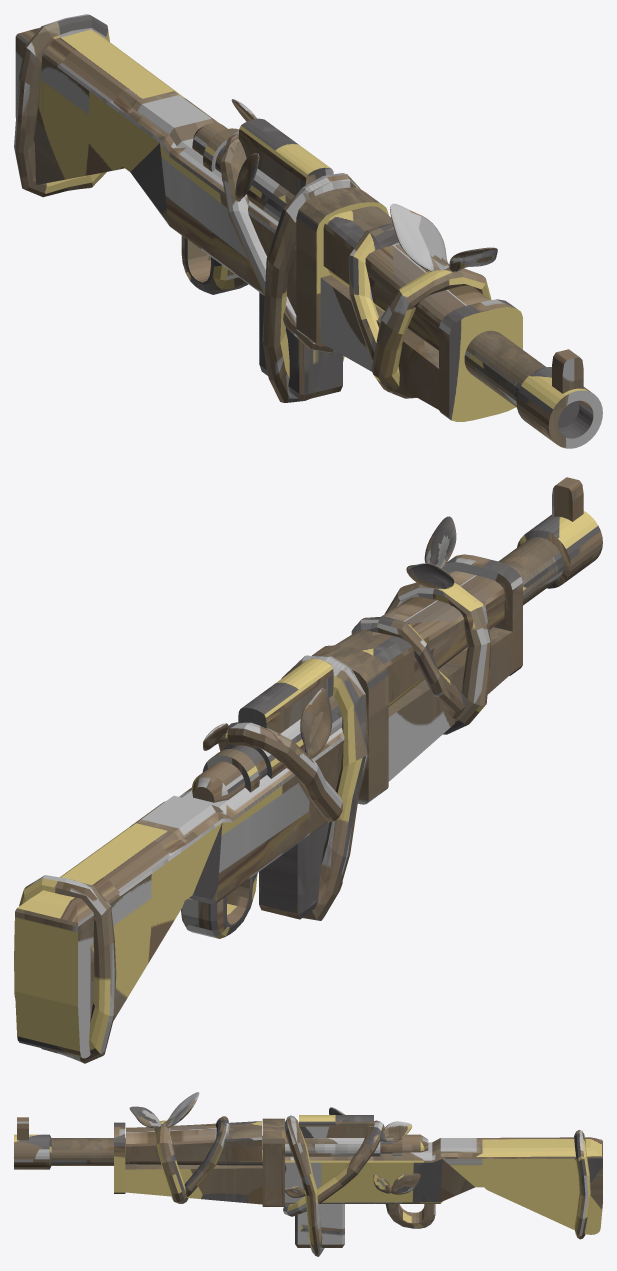
File: Rifle.fbx
3 renders of one model, top to bottom at view 1: azimuth 30°, elevation 25°; view 2: azimuth 150°, elevation 25°; view 3: azimuth 270°, elevation 25°, orthographic. The views are drawn at different scales.
Visible parts, largest first — view 1: Cube.002; view 2: Cube.002; view 3: Cube.002.
Boxes of the visible parts, bbox=[...] form: Cube.002: bbox=[14, 14, 602, 448]; Cube.002: bbox=[14, 477, 602, 1063]; Cube.002: bbox=[14, 1092, 602, 1256].
Bounding box in the file's own units: 283 × 686 × 2351.
